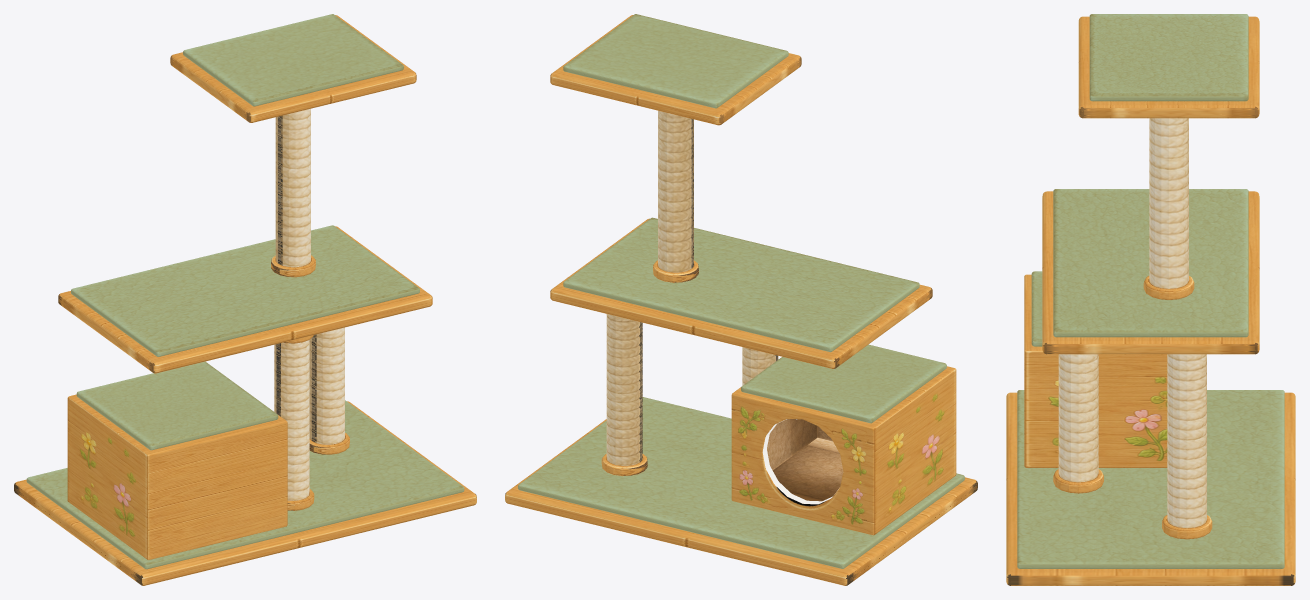
File: cat_tower_green_01_muted_unlit.glb
The picture shows the model from 3 angles, left to right: view 1: azimuth 30°, elevation 25°; view 2: azimuth 150°, elevation 25°; view 3: azimuth 270°, elevation 25°; orthographic projection. The views are drawn at different scales.
Parts seen in each view (by area): view 1: cat_tower_mesh; view 2: cat_tower_mesh; view 3: cat_tower_mesh.
Boxes of the visible parts, left/top/right/bottom form: cat_tower_mesh: left=14, top=14, right=476, bottom=585; cat_tower_mesh: left=505, top=14, right=977, bottom=585; cat_tower_mesh: left=1006, top=14, right=1295, bottom=585.
Bounding box in the file's own units: 2.4 × 2.88 × 1.6.
Materials: 25 (24 with a texture image).
